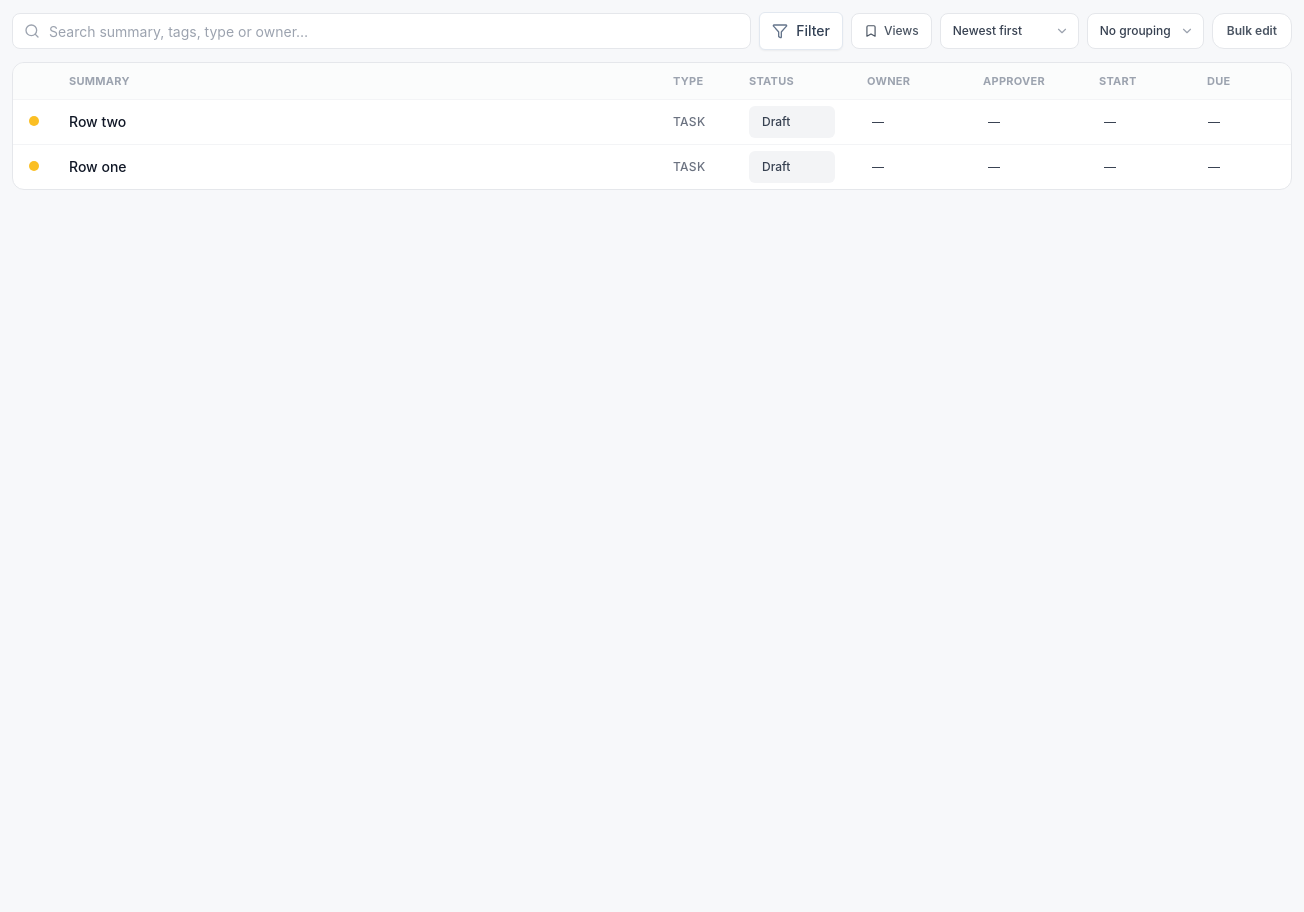
ListView row context menu (Step 3 owner / approver) › fetches project members once per project when opening menu on different rows
This screenshot has width=1304, height=912.
Right-click the text "Row one": (652, 167) [13,144,1291,189]
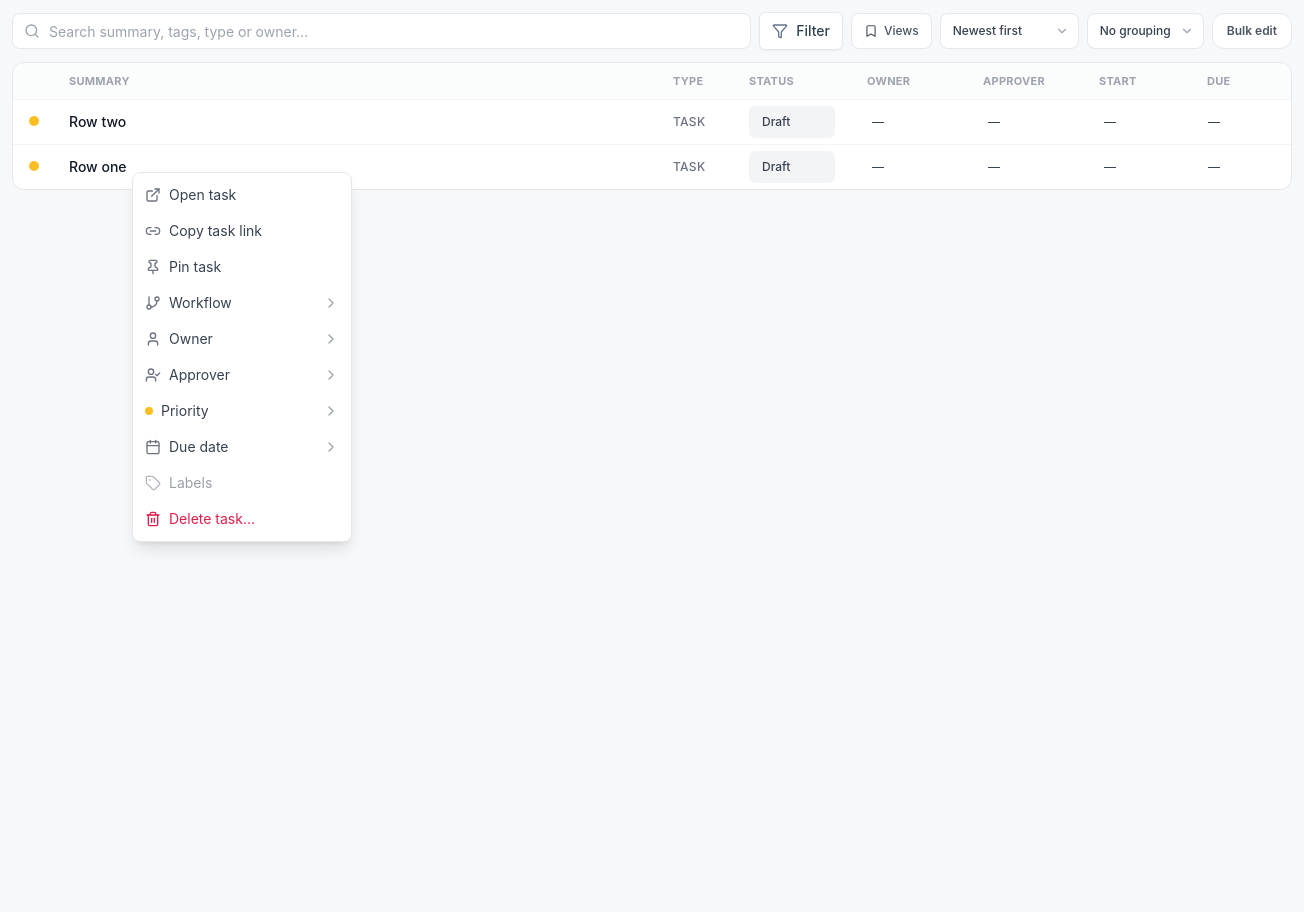
Press the mouse on the element that starts with "Filter": (652, 462) [12,12,1292,911]
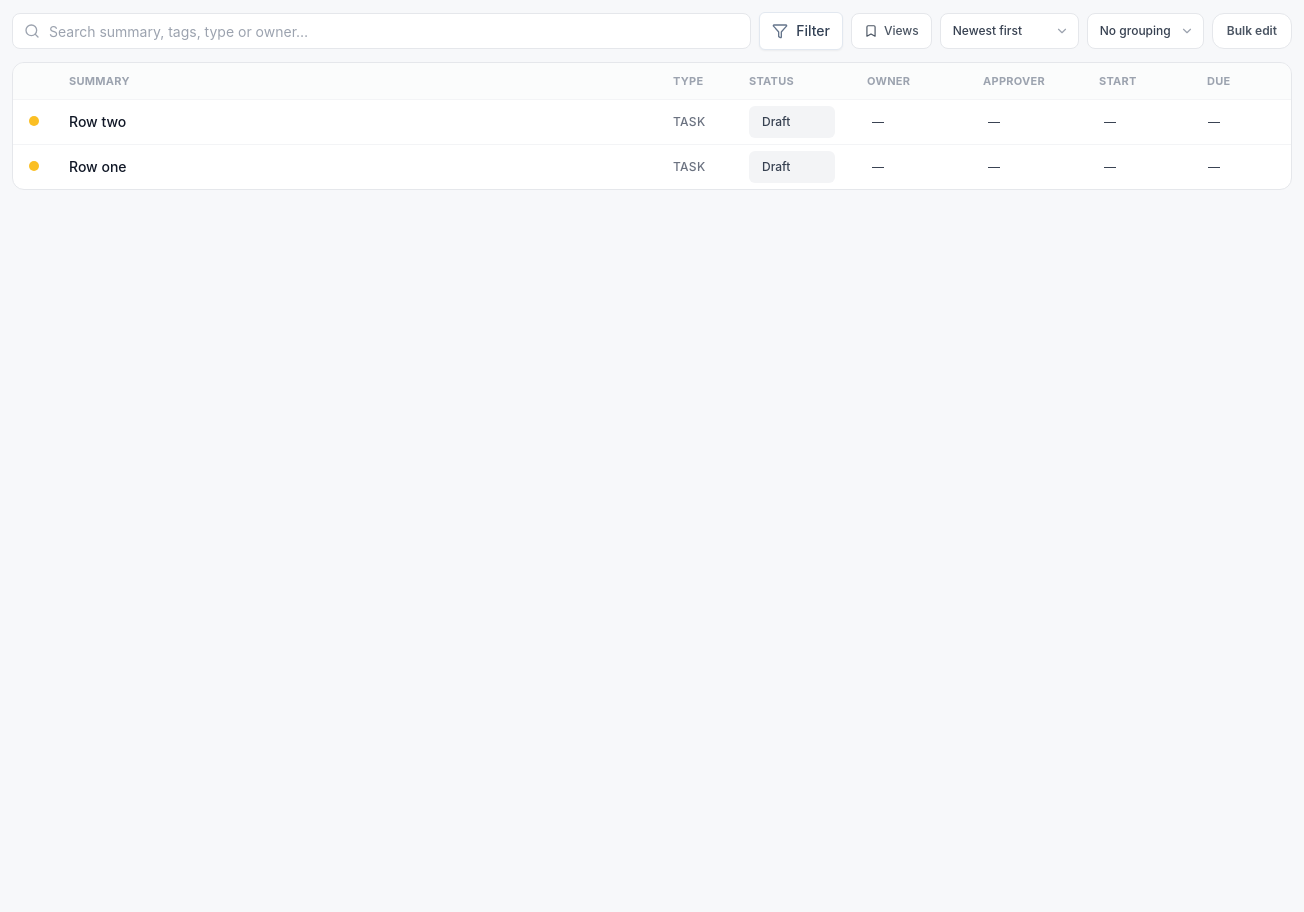
Right-click the text "Row two": (98, 122) [13,100,1291,144]
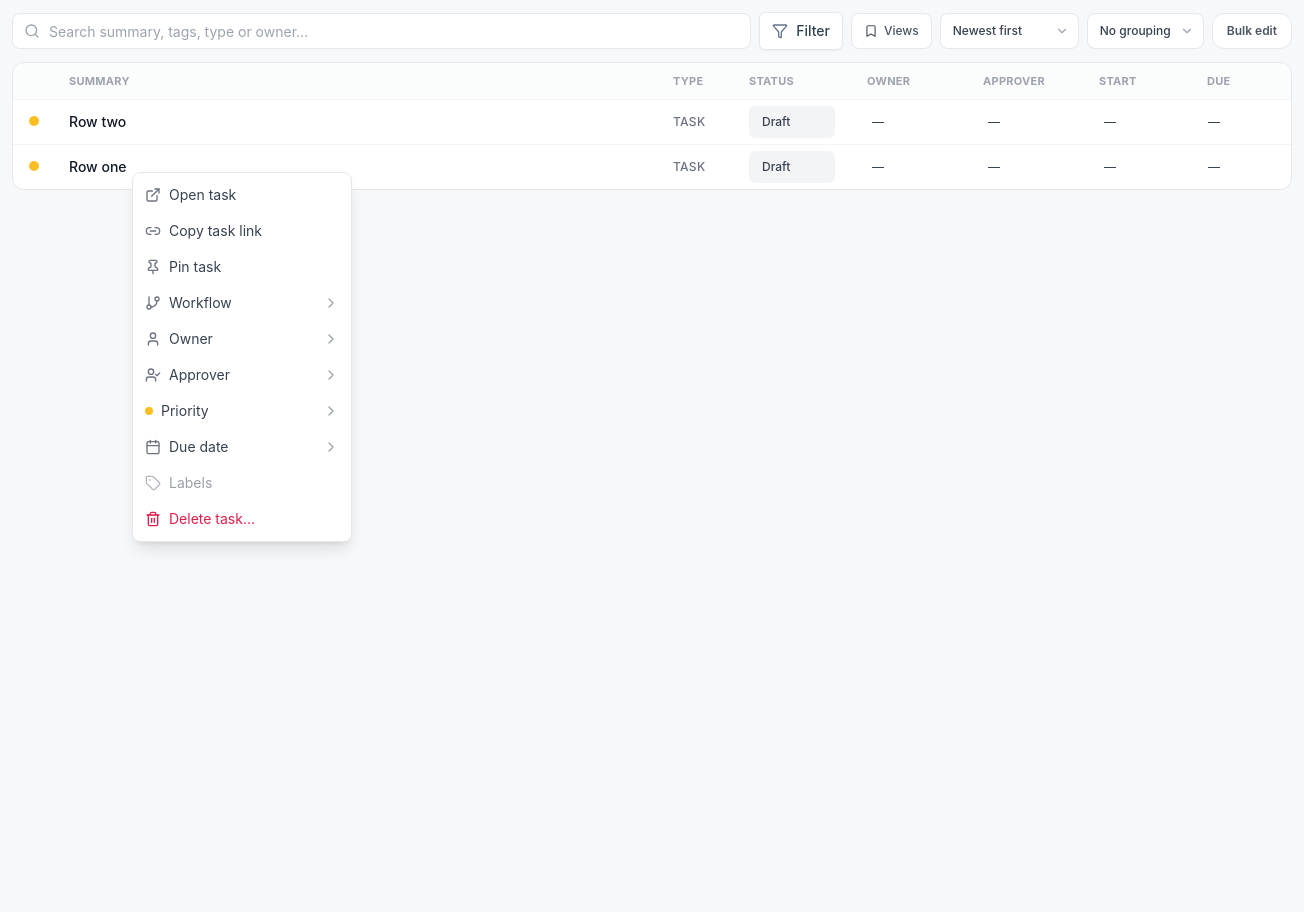
Result: the menu is shown at [132,172,352,542]
